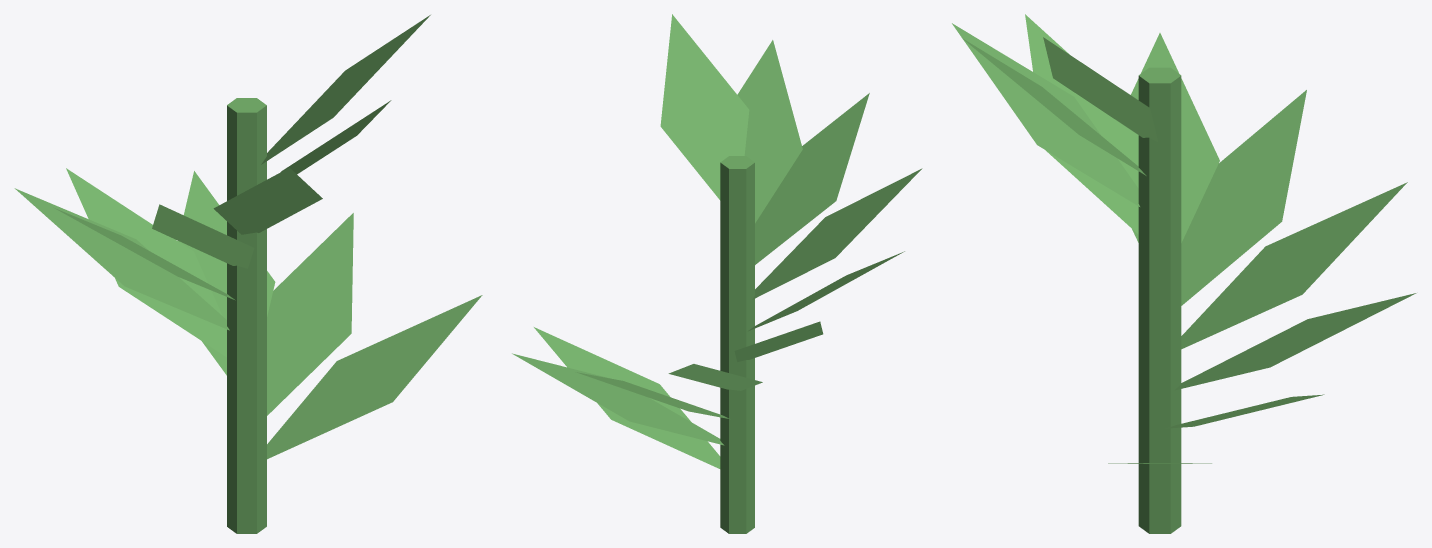
The picture shows the model from 3 angles, left to right: view 1: azimuth 30°, elevation 25°; view 2: azimuth 150°, elevation 25°; view 3: azimuth 270°, elevation 25°; orthographic projection. The views are drawn at different scales.
Parts seen in each view (by area): view 1: LOD0; view 2: LOD0; view 3: LOD0.
Part boxes in pixels (x1,y1,x2,y2): LOD0: (14, 15, 482, 533); LOD0: (512, 14, 922, 533); LOD0: (952, 14, 1416, 533).
Size of what is drawn, in the model's own units: 0.62 by 0.717 by 0.544.
